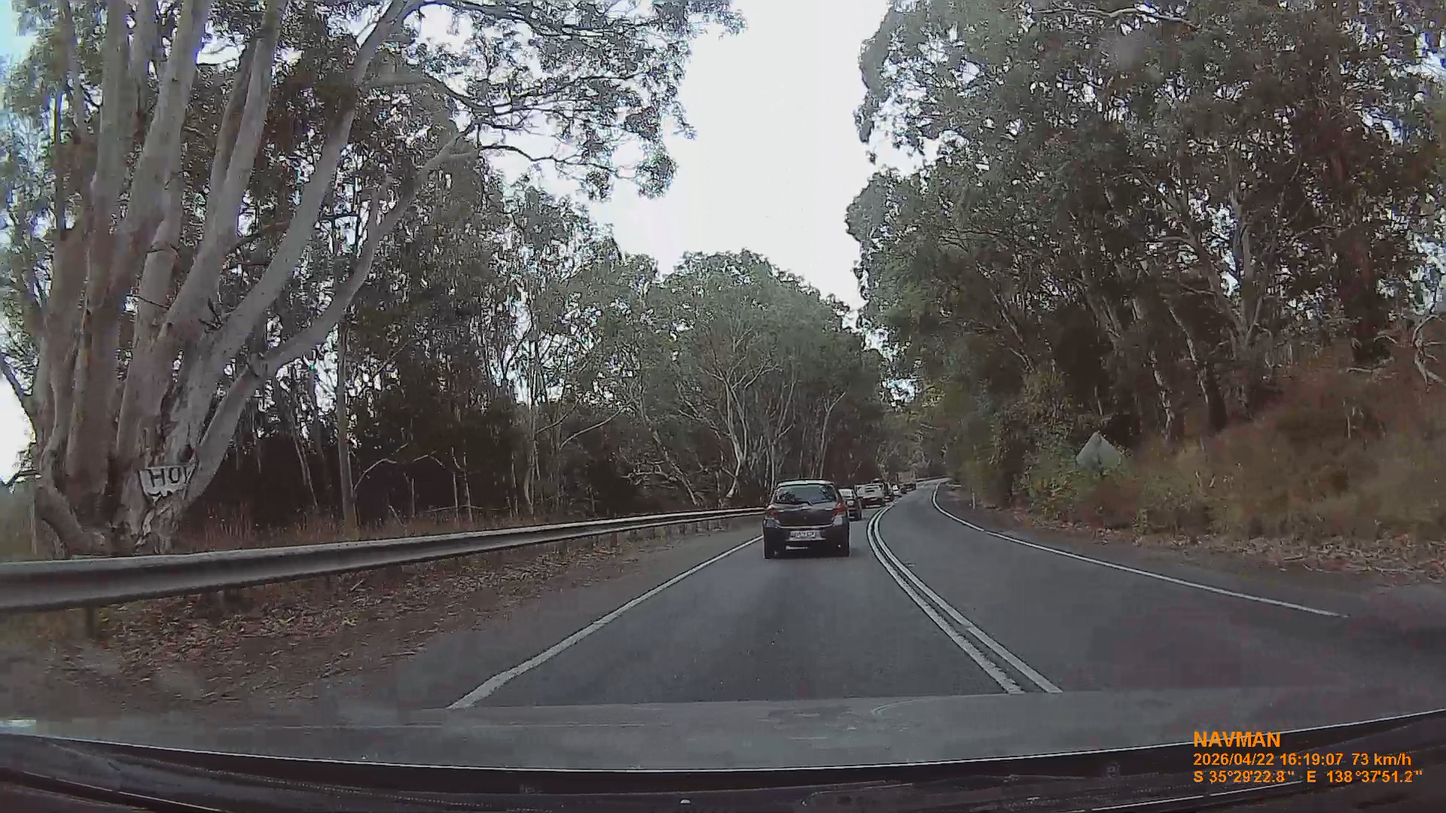road barriers: (0, 510, 757, 614)
